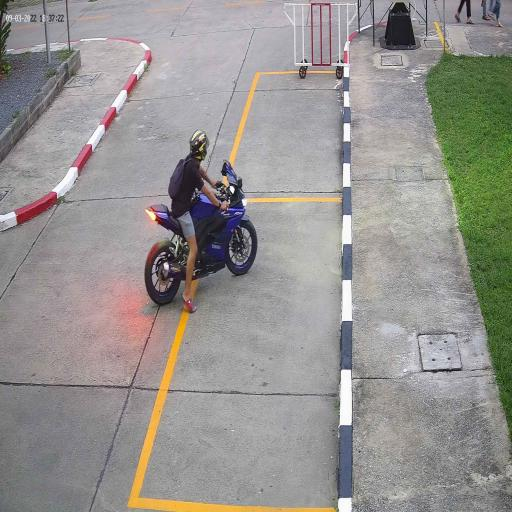motorcycle: (143, 196, 260, 307)
